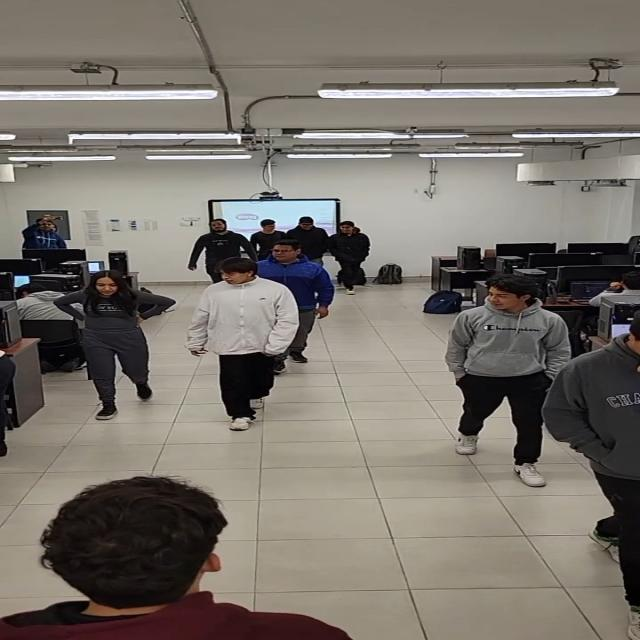Persona: (42, 470, 288, 621), (447, 270, 574, 479), (196, 260, 296, 432), (75, 265, 171, 412), (264, 241, 338, 313), (334, 220, 373, 296), (203, 217, 259, 260), (26, 216, 75, 252), (292, 214, 340, 248), (257, 218, 292, 242)
